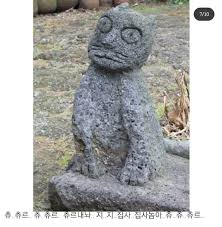Stone Statue: (50, 2, 192, 201)
